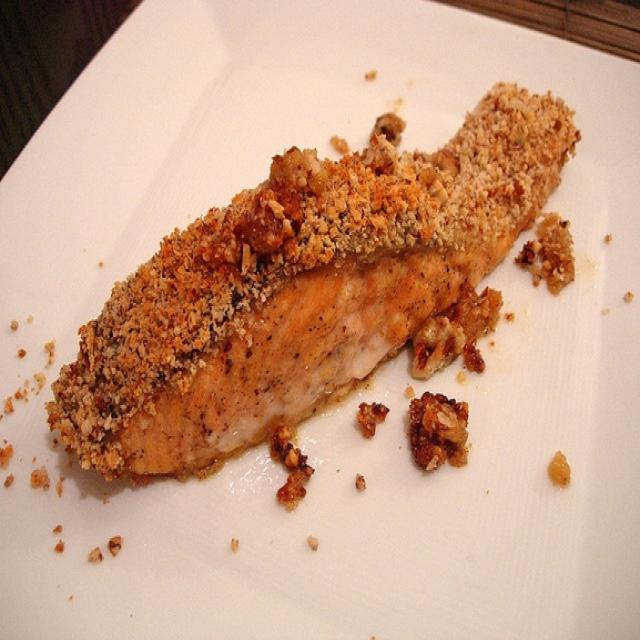熟制海鲜: (1, 5, 629, 628)
